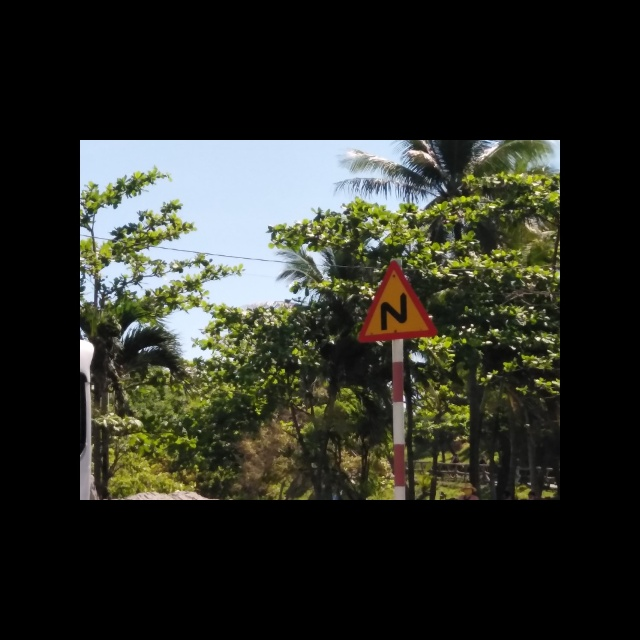Ngoặt nguy hiểm liên tiếp bên phải: (357, 258, 438, 344)
